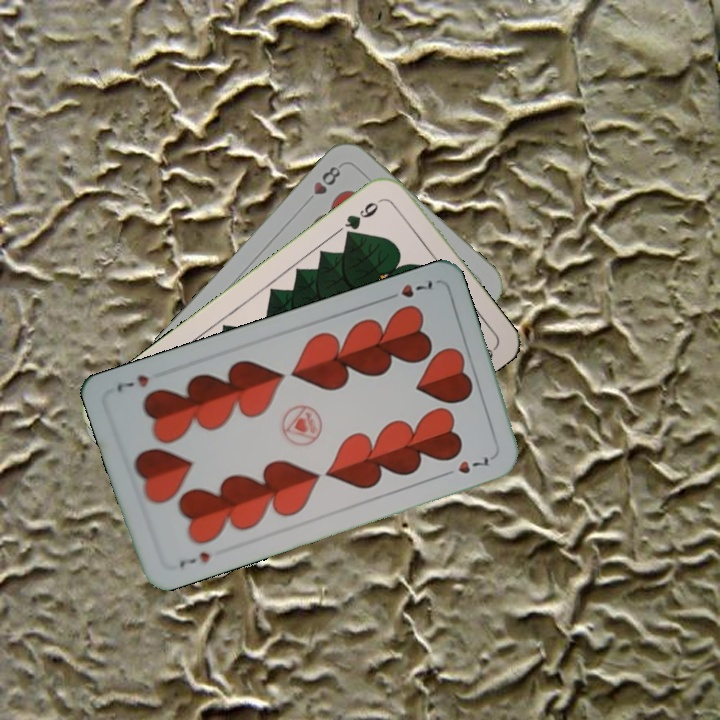G9: (340, 195, 386, 241)
H7: (381, 276, 437, 303), (175, 548, 213, 571)
H8: (300, 162, 343, 208)
